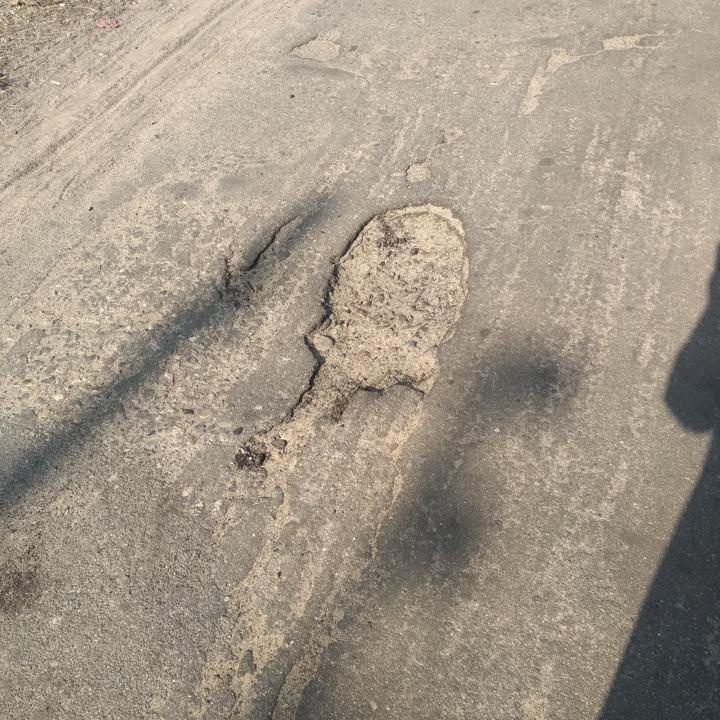pothole: (235, 197, 476, 467), (215, 210, 306, 305), (512, 45, 583, 118), (285, 26, 347, 66), (598, 28, 661, 51), (400, 159, 434, 185)
